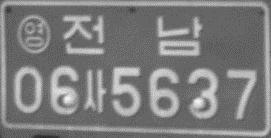0: (12, 65, 43, 114)
3: (187, 67, 219, 120)
5: (110, 65, 142, 118)
6: (48, 65, 80, 116), (148, 67, 180, 118)
7: (225, 68, 257, 120)
사: (82, 69, 107, 114)
영: (16, 13, 52, 55)
전남_D: (60, 14, 203, 57)
